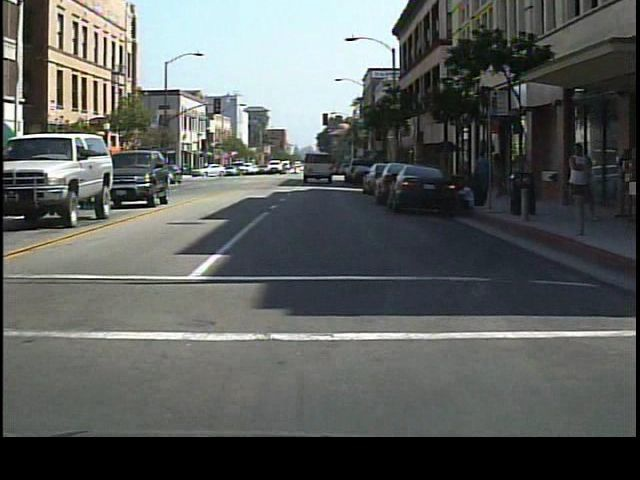person: (563, 126, 599, 228), (471, 141, 493, 201), (488, 147, 510, 203)
